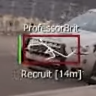hacks_3: (17, 23, 81, 80)
